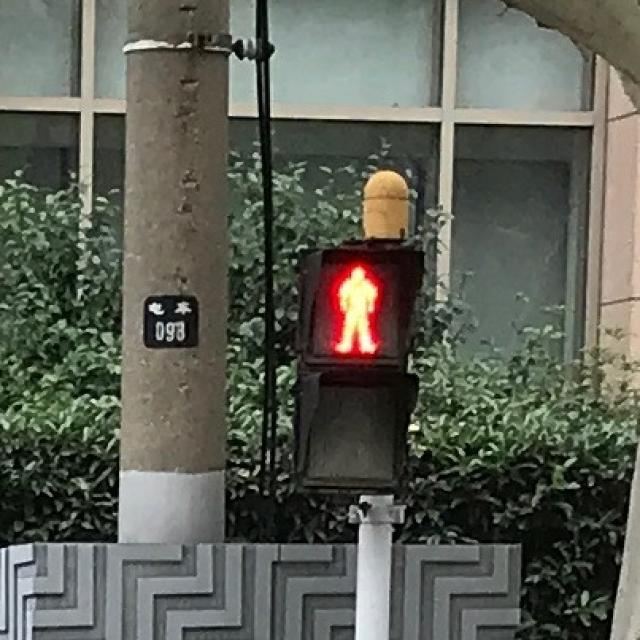red-crossing: (309, 251, 405, 362)
